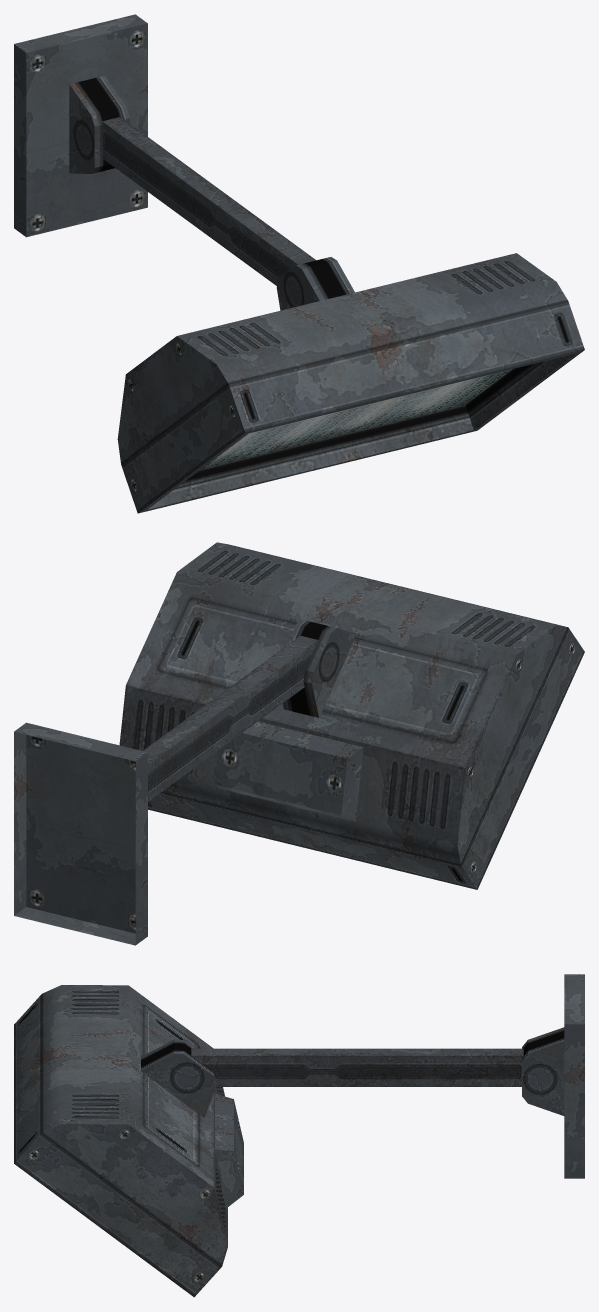
File: Light1_5.fbx
3 views of the same model, one above another, from view 1: azimuth 30°, elevation 25°; view 2: azimuth 150°, elevation 25°; view 3: azimuth 270°, elevation 25° (orthographic). The views are drawn at different scales.
Visible parts, largest first — view 1: polySurface16; view 2: polySurface16; view 3: polySurface16.
Boxes of the visible parts, x1=… form: polySurface16: x1=14, y1=14, x2=584, y2=513; polySurface16: x1=14, y1=542, x2=584, y2=945; polySurface16: x1=14, y1=974, x2=584, y2=1297.
Bounding box in the file's own units: 0.4737 × 0.3631 × 0.8218.
1 material, 1 textured.
